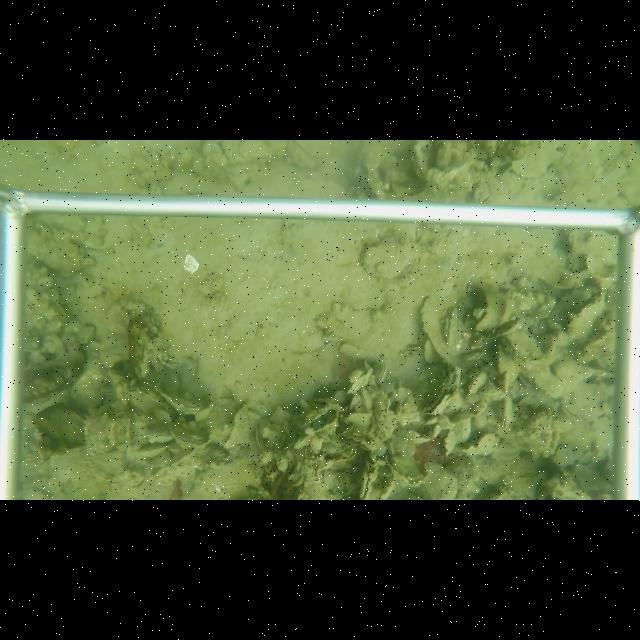Oyster-Closed: (360, 235, 417, 281), (565, 292, 608, 345), (423, 368, 463, 419), (121, 385, 178, 418), (220, 403, 254, 450), (457, 433, 502, 457), (441, 304, 459, 351), (493, 395, 515, 430), (466, 372, 489, 395), (440, 428, 457, 459), (491, 345, 507, 375), (134, 444, 167, 458), (142, 431, 173, 444), (374, 359, 388, 387), (359, 386, 374, 411), (254, 420, 265, 451), (431, 423, 441, 439)
Oyster-Open: (298, 400, 342, 435), (162, 390, 211, 417), (355, 464, 380, 499)
